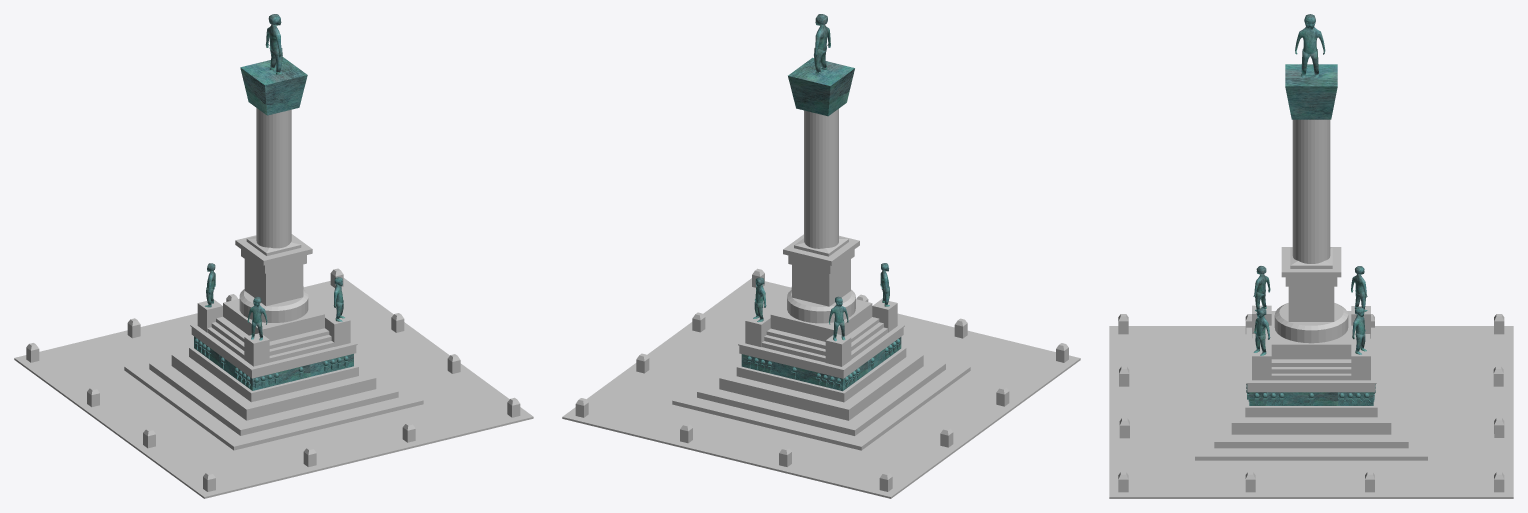
The model's file is Jubileumzuil.fbx.
3 renders of one model, left to right at view 1: azimuth 30°, elevation 25°; view 2: azimuth 150°, elevation 25°; view 3: azimuth 270°, elevation 25°, orthographic. The views are drawn at different scales.
Parts seen in each view (by area): view 1: Platform, Platform.001, Cylinder.001, Platform.002, Platform.003, Cube, Platform.004, Platform.011, Platform.007, Muurschildering, Platform.005, trap.003 (+9 smaller); view 2: Platform, Platform.001, Cylinder.001, Platform.002, Platform.003, Cube, Platform.004, Platform.011, Platform.007, Muurschildering, Platform.005, trap.002 (+9 smaller); view 3: Platform, Platform.001, Platform.002, Cylinder.001, Platform.003, Cube, Platform.007, Platform.004, Cylinder, trap, Platform.011, Muurschildering (+12 smaller).
Part boxes in pixels (box(x1,y1,x2,y2)): Platform: box(14, 278, 533, 498); Platform.001: box(124, 351, 423, 450); Cylinder.001: box(256, 108, 291, 248); Platform.002: box(149, 358, 398, 435); Platform.003: box(171, 350, 376, 420); Cube: box(240, 57, 307, 115); Platform.004: box(189, 346, 358, 402); Platform.011: box(244, 259, 303, 306); Platform.007: box(223, 298, 324, 341); Muurschildering: box(194, 336, 353, 390); Platform.005: box(191, 327, 356, 378); trap.003: box(269, 328, 334, 362); Platform: box(562, 278, 1080, 498); Platform.001: box(672, 352, 970, 450); Cylinder.001: box(804, 109, 838, 248); Platform.002: box(697, 358, 945, 435); Platform.003: box(719, 351, 923, 420); Cube: box(788, 57, 854, 116); Platform.004: box(736, 347, 906, 402); Platform.011: box(792, 259, 850, 306); Platform.007: box(770, 299, 872, 341); Muurschildering: box(741, 337, 901, 391); Platform.005: box(739, 327, 903, 378); trap.002: box(761, 328, 825, 362); Platform: box(1109, 326, 1513, 498); Platform.001: box(1195, 358, 1427, 460); Platform.002: box(1214, 360, 1408, 448); Cylinder.001: box(1292, 119, 1330, 263); Platform.003: box(1231, 355, 1391, 434); Cube: box(1285, 64, 1337, 119); Platform.007: box(1271, 311, 1351, 359); Platform.004: box(1245, 351, 1377, 417); Cylinder: box(1274, 303, 1348, 343); trap: box(1271, 359, 1351, 380); Platform.011: box(1288, 286, 1334, 321); Muurschildering: box(1249, 392, 1373, 405).
Size of the model in its own units: 2044 by 2222 by 2044.
